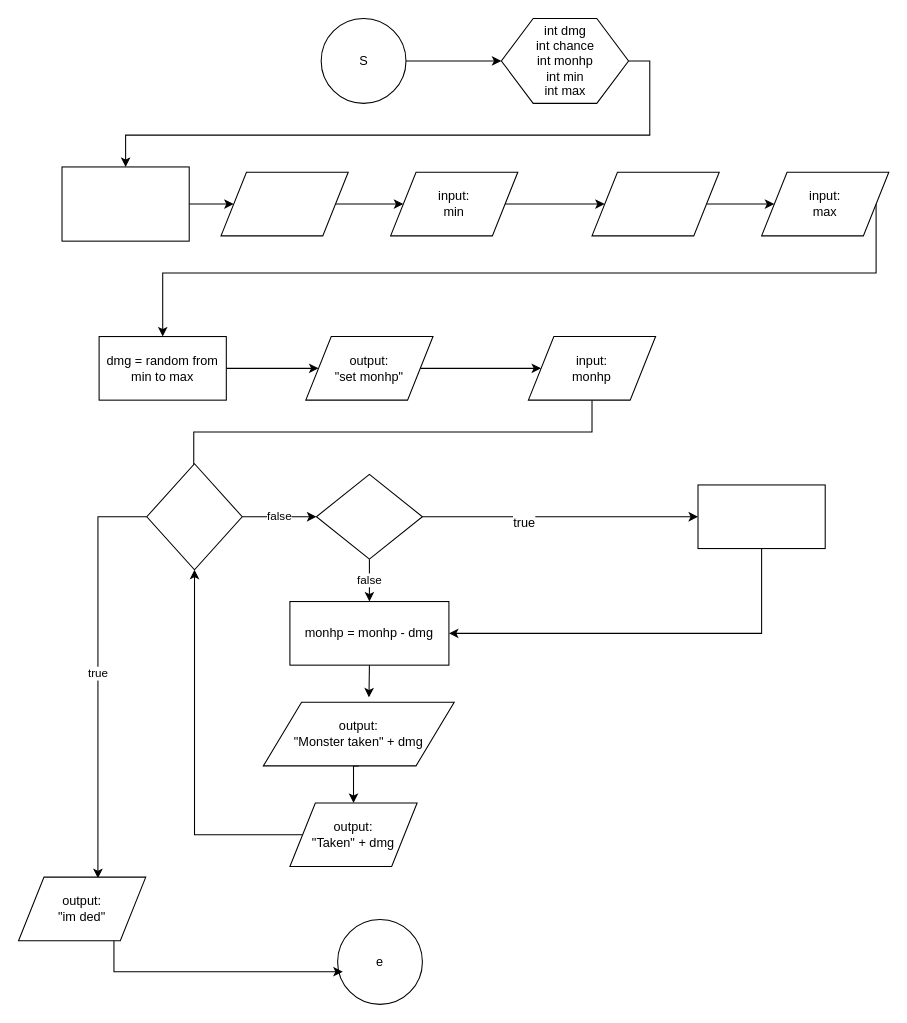
Image size: 907x1023. Some labels were removed from this diagram. Each missing label, with the centre of its shape:
chance = random from 0-100: (125,203)
dmg = dmg * 0.5: (761,516)
int chance <= 20: (368,516)
monhp <= 0: (194,516)
output: "set max": (655,203)
output: "set min": (284,203)
